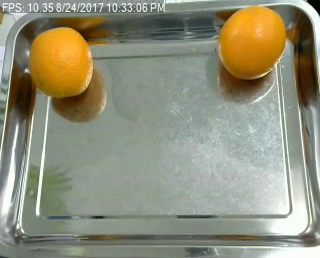Orange: (217, 7, 287, 79), (27, 26, 92, 97)
